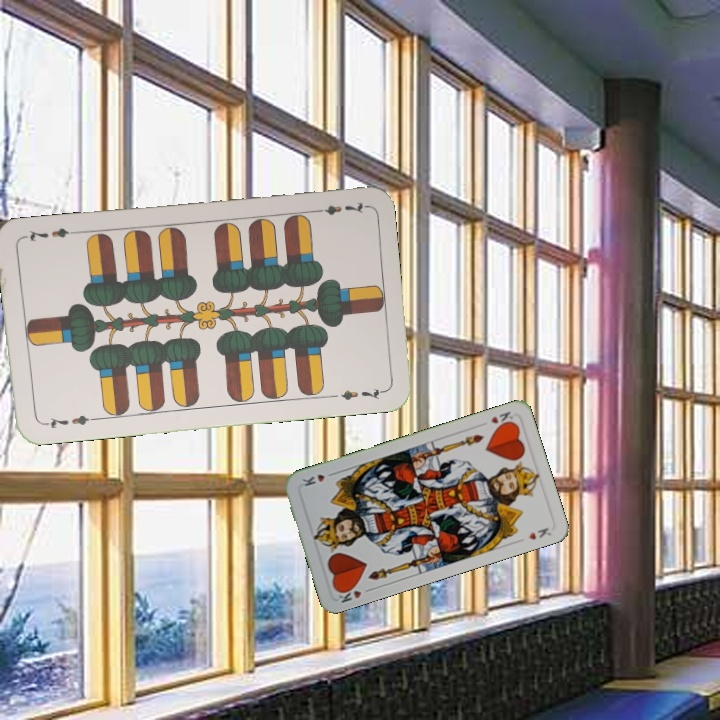E7: (38, 411, 97, 431), (309, 198, 368, 218)
HK: (332, 581, 364, 605), (486, 407, 516, 430)
